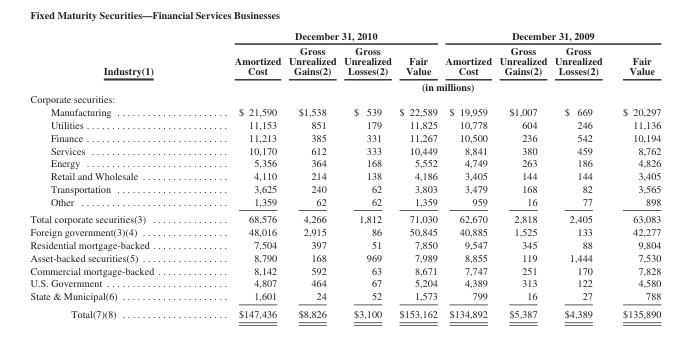table: (29, 29, 660, 319)
table column: (29, 29, 193, 319), (193, 29, 284, 319), (550, 29, 611, 319), (494, 29, 550, 319), (284, 29, 339, 319), (339, 29, 394, 319), (440, 29, 494, 319), (611, 29, 660, 319), (394, 29, 440, 319)
table column header: (29, 29, 660, 92)
table projected row header: (29, 92, 660, 105)
table row: (29, 42, 660, 78), (29, 194, 660, 210), (29, 210, 660, 225), (29, 289, 660, 304), (29, 304, 660, 319), (29, 78, 660, 92), (29, 29, 660, 42), (29, 92, 660, 105), (29, 105, 660, 118), (29, 130, 660, 143), (29, 143, 660, 156), (29, 156, 660, 169), (29, 181, 660, 194), (29, 225, 660, 238), (29, 250, 660, 263), (29, 263, 660, 276), (29, 276, 660, 289), (29, 118, 660, 130), (29, 169, 660, 181), (29, 238, 660, 250)
table spanning cell: (29, 29, 193, 92), (193, 78, 660, 92), (193, 29, 440, 42), (440, 29, 660, 42)
